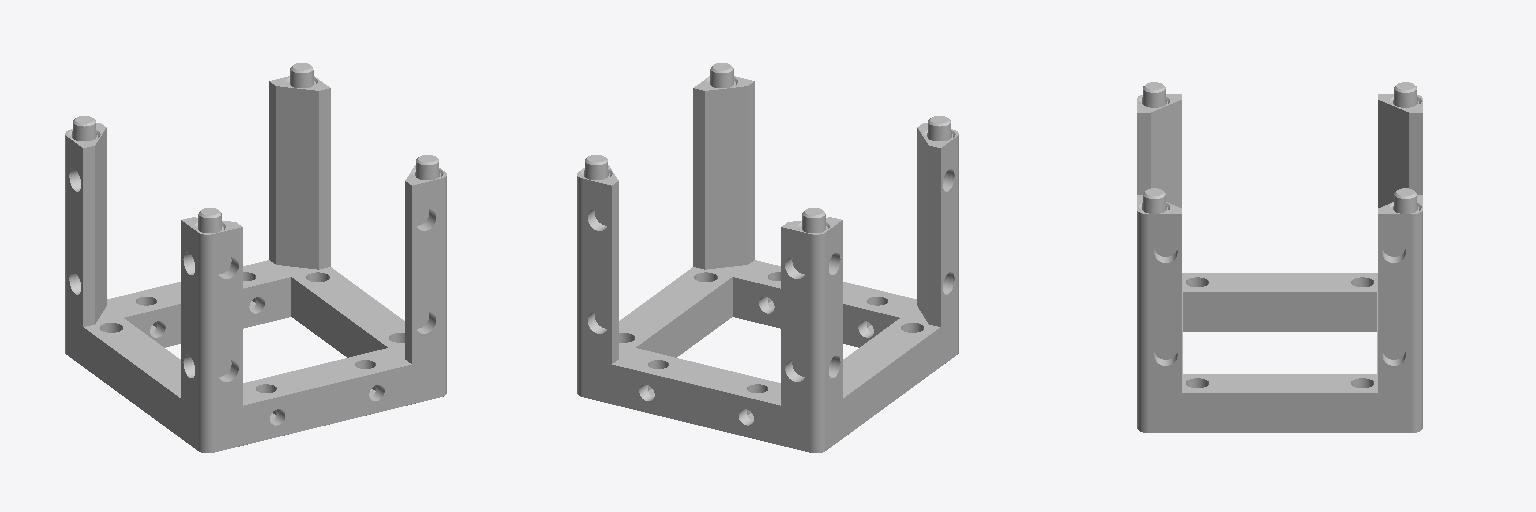
Rendered from V5_Cube 1x1 Bottom V5.obj.
The picture shows the model from 3 angles: view 1: azimuth 30°, elevation 25°; view 2: azimuth 150°, elevation 25°; view 3: azimuth 270°, elevation 25°; orthographic projection.
Parts seen in each view (by area): view 1: Solid1:1; view 2: Solid1:1; view 3: Solid1:1.
Part boxes in pixels (x1,y1,x2,y2): Solid1:1: (65,63,446,452); Solid1:1: (577,63,958,452); Solid1:1: (1137,82,1422,432).
Bounding box in the file's own units: 49.8 × 44.98 × 49.8.